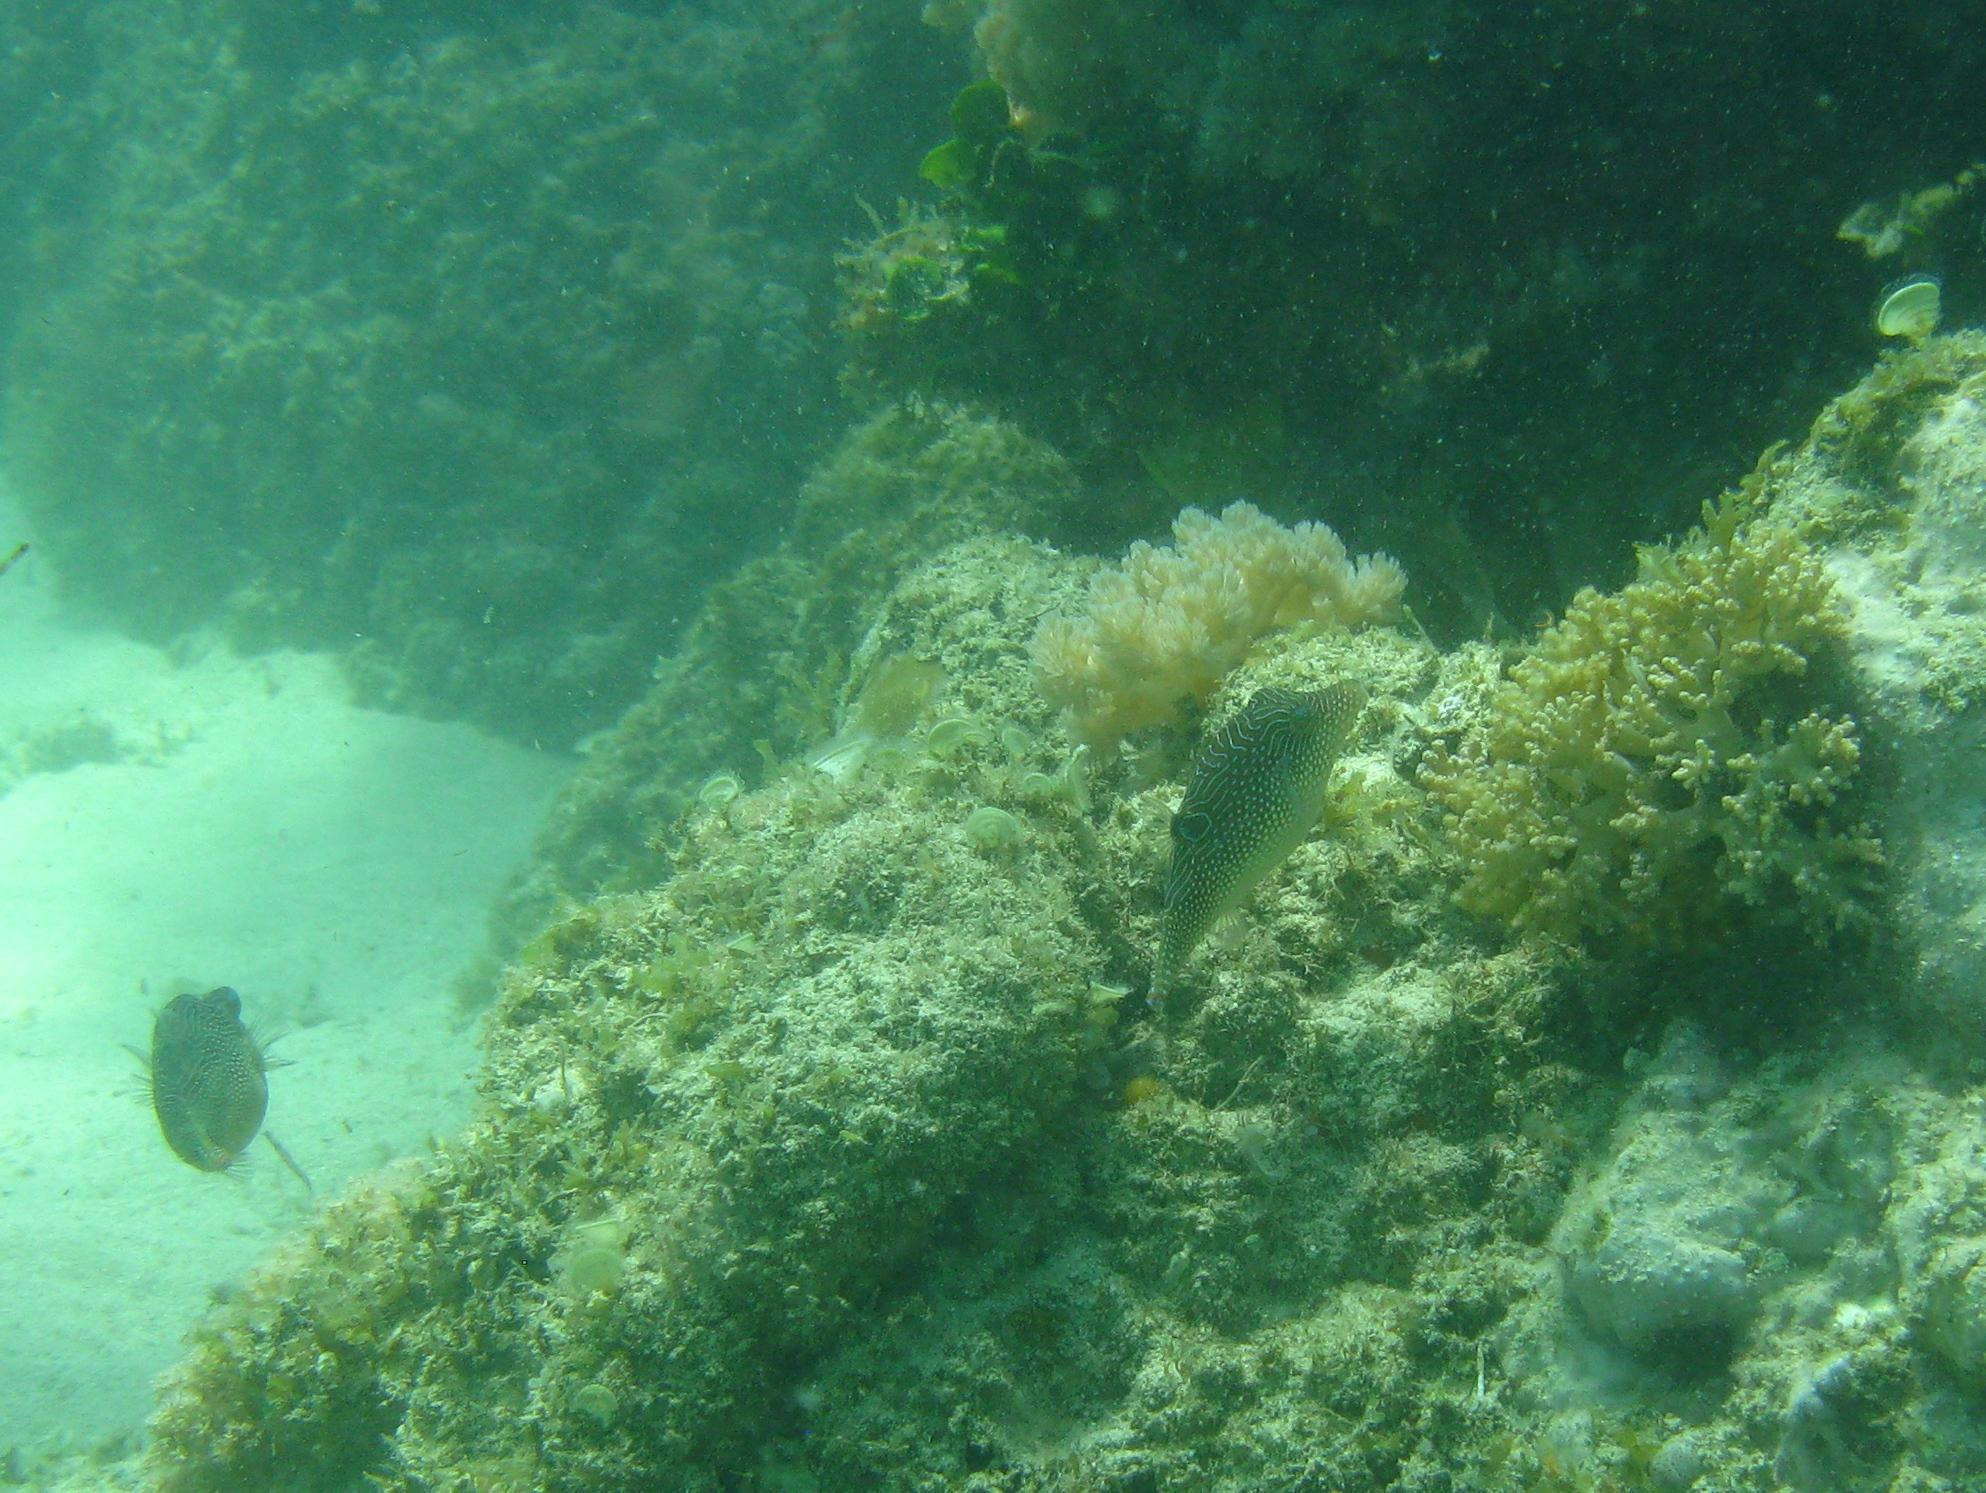Fish: (111, 974, 337, 1200)
